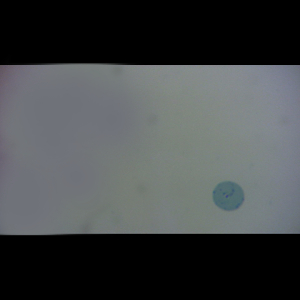punctate reticulocyte: (211, 180, 246, 212)
